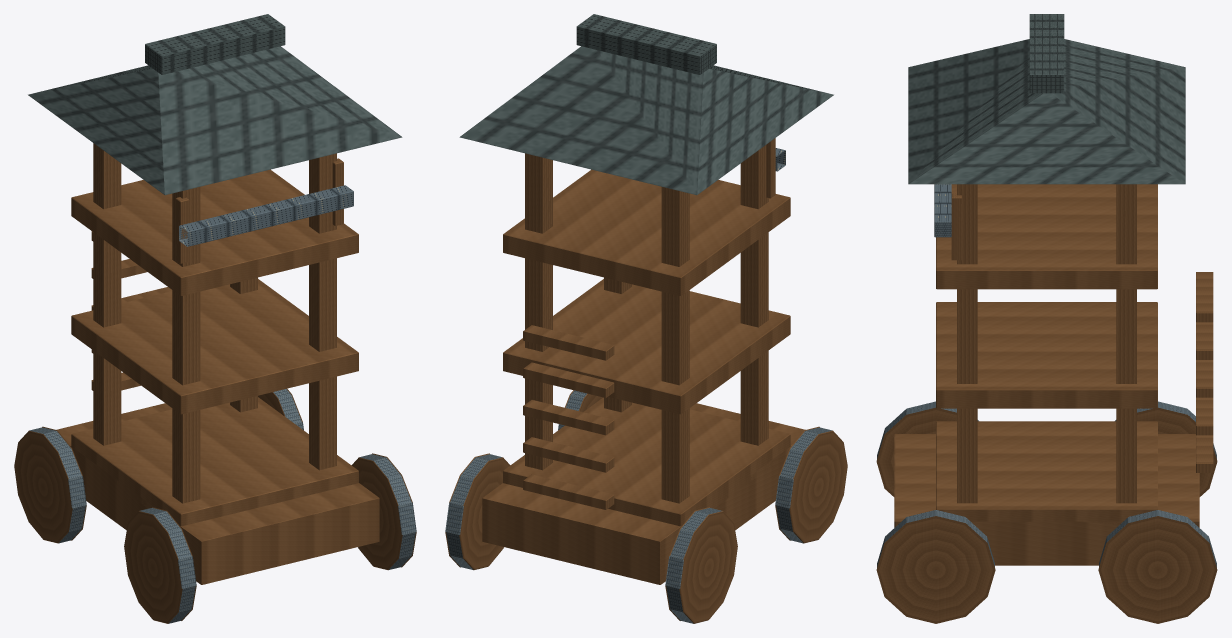
The model's file is unit-SIEGE_TOWER-lod0.glb.
3 views of the same model, side by side, from view 1: azimuth 30°, elevation 25°; view 2: azimuth 150°, elevation 25°; view 3: azimuth 270°, elevation 25° (orthographic).
Size of the model in its own units: 0.4 by 0.8309 by 0.4919.
1 material, 1 textured.
